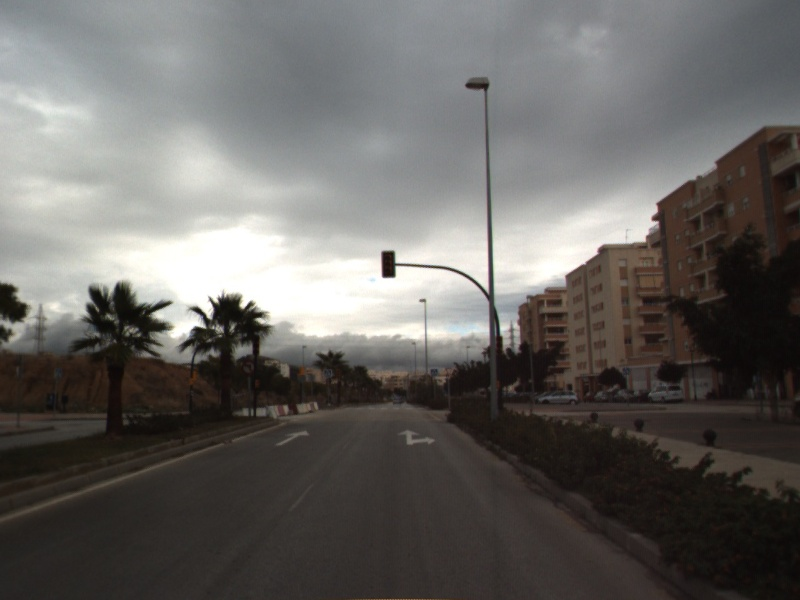STRAIGHT: (274, 428, 312, 447)
STRAIGHT_RIGHT: (395, 427, 437, 447)
